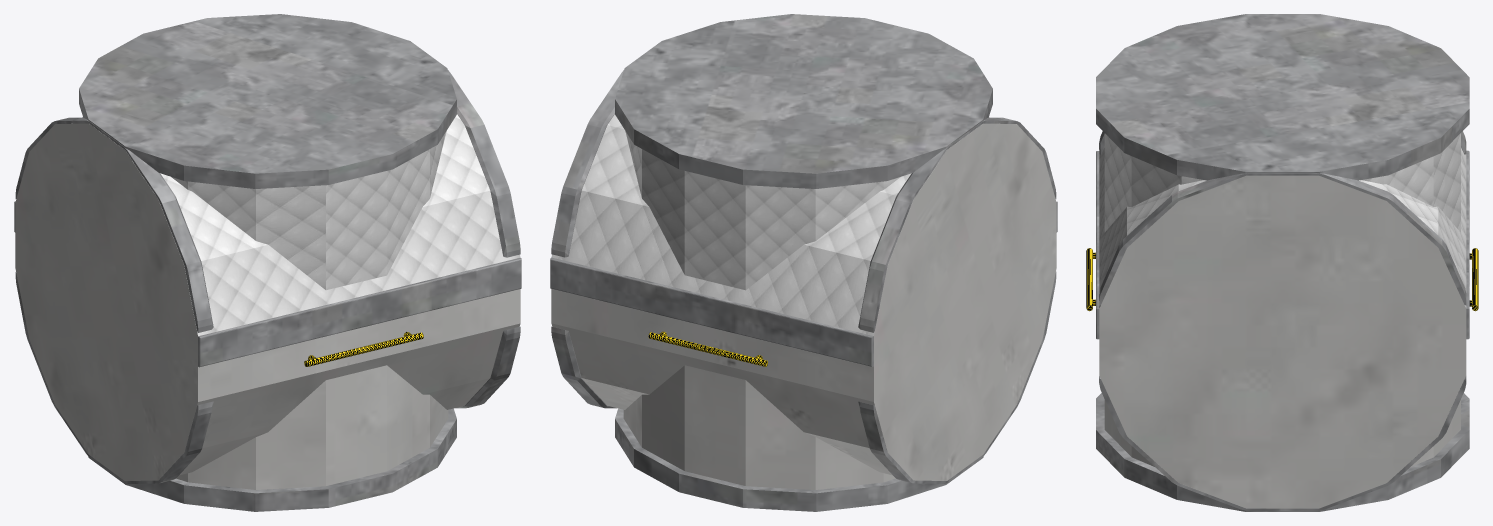
File: Module-3-Centre-2.glb
3 renders of one model, left to right at view 1: azimuth 30°, elevation 25°; view 2: azimuth 150°, elevation 25°; view 3: azimuth 270°, elevation 25°, orthographic.
Parts seen in each view (by area): view 1: Hull, Hull.002, Top, Hull.004, Hull.001, Cylinder.001, Hull Bars, Hull.003, Bar; view 2: Hull, Hull.002, Top, Hull.004, Hull.001, Cylinder.001, Hull Bars, Hull.003, Bar.001; view 3: Hull, Hull.002, Hull.001, Cylinder.001, Hull.003, Top, Hull Bars, Hull.004, Bar.001, Bar.
Boxes of the visible parts, <box> form: Hull: <box>15,123,520,480</box>; Hull.002: <box>79,14,456,188</box>; Top: <box>71,114,520,336</box>; Hull.004: <box>176,365,448,489</box>; Hull.001: <box>171,131,446,290</box>; Cylinder.001: <box>15,70,520,483</box>; Hull Bars: <box>14,201,521,367</box>; Hull.003: <box>88,408,456,511</box>; Bar: <box>304,331,423,366</box>; Hull: <box>551,123,1056,480</box>; Hull.002: <box>615,14,992,188</box>; Top: <box>551,114,1016,335</box>; Hull.004: <box>623,365,895,489</box>; Hull.001: <box>625,131,900,290</box>; Cylinder.001: <box>551,70,1056,483</box>; Hull Bars: <box>550,201,1057,366</box>; Hull.003: <box>615,408,983,511</box>; Bar.001: <box>648,331,767,366</box>; Hull: <box>1099,175,1466,508</box>; Hull.002: <box>1096,14,1469,180</box>; Hull.001: <box>1104,133,1460,232</box>; Cylinder.001: <box>1099,131,1466,510</box>; Hull.003: <box>1096,393,1469,511</box>; Top: <box>1099,147,1466,307</box>; Hull Bars: <box>1096,150,1469,339</box>; Hull.004: <box>1104,400,1460,466</box>; Bar.001: <box>1469,248,1478,311</box>; Bar: <box>1086,248,1095,311</box>.
Bounding box in the file's own units: 12 × 12.03 × 12.58.
Materials: 5 (5 with a texture image).
